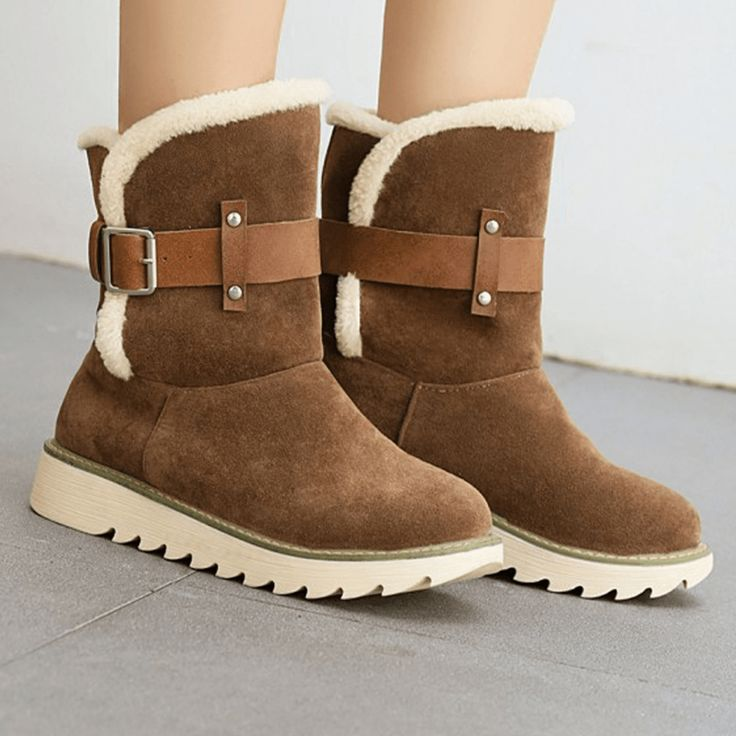gamuza: (54, 104, 704, 557)
